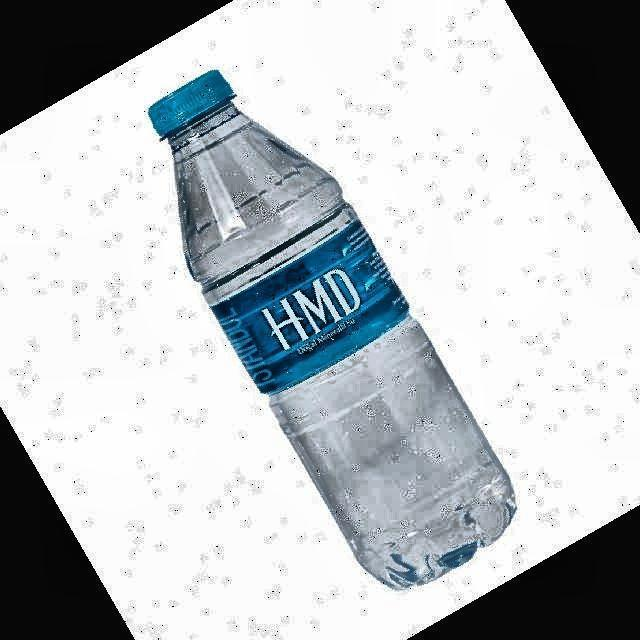plastic: (150, 71, 515, 588)
